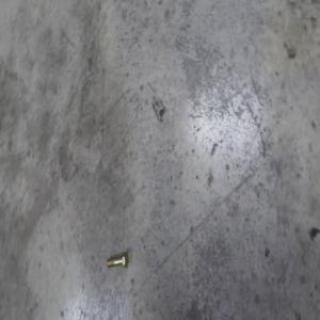Bolttrack_idkeyframe: (106, 246, 130, 268)
